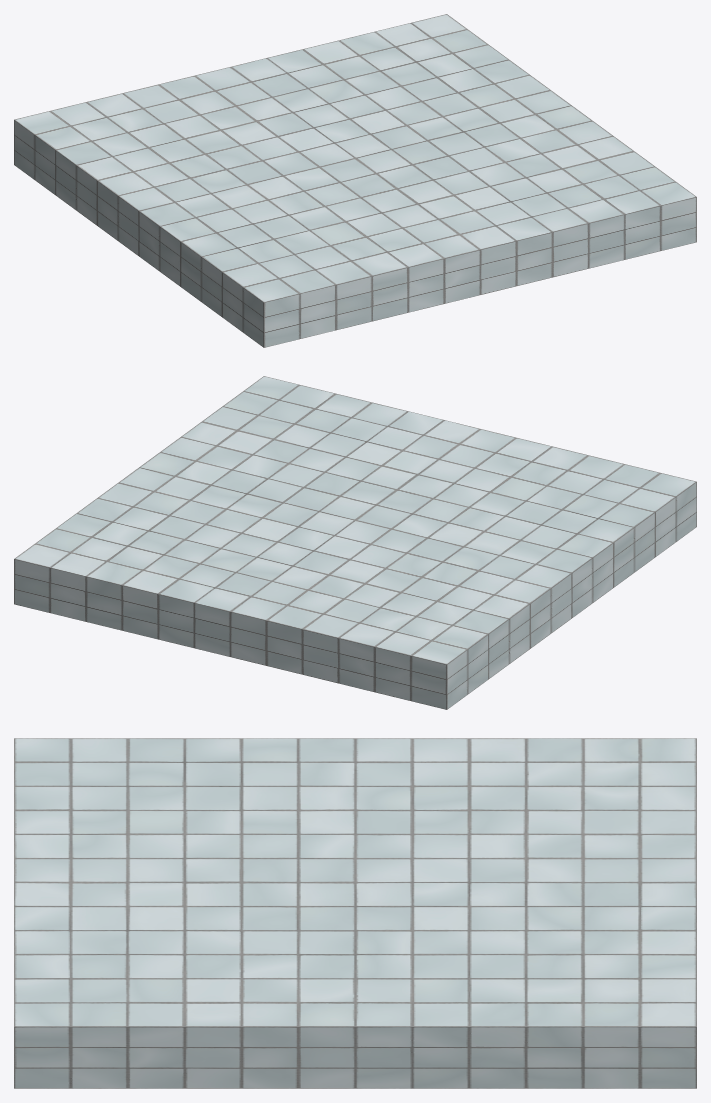
The model's file is TESTLevel.glb.
3 renders of one model, top to bottom at view 1: azimuth 30°, elevation 25°; view 2: azimuth 150°, elevation 25°; view 3: azimuth 270°, elevation 25°, orthographic. The views are drawn at different scales.
Visible parts, largest first — view 1: TESTLevel; view 2: TESTLevel; view 3: TESTLevel.
Part boxes in pixels (<box>): TESTLevel: <box>14,14,696,347</box>; TESTLevel: <box>14,376,696,709</box>; TESTLevel: <box>14,738,696,1088</box>.
Size of the model in its own units: 40 by 4 by 40.
1 material, 1 textured.
